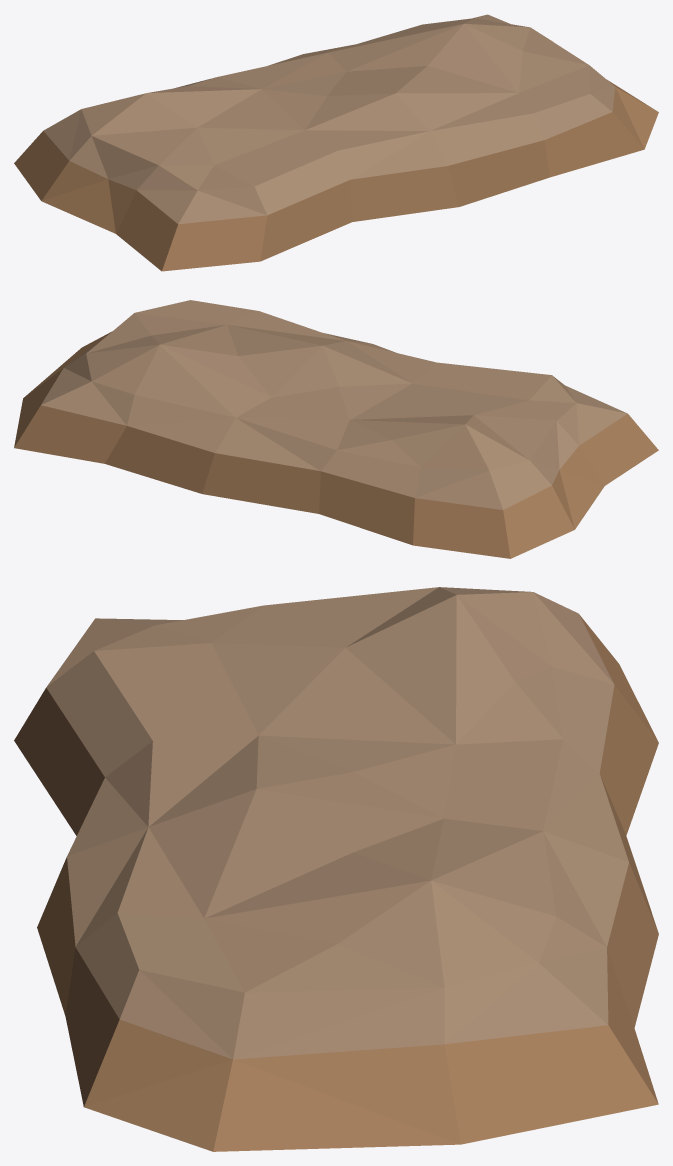
File: TB_Env_Mound_Big_C.FBX
3 views of the same model, one above another, from view 1: azimuth 30°, elevation 25°; view 2: azimuth 150°, elevation 25°; view 3: azimuth 270°, elevation 25° (orthographic). The views are drawn at different scales.
Visible parts, largest first — view 1: TB_Env_Mound_Big_C; view 2: TB_Env_Mound_Big_C; view 3: TB_Env_Mound_Big_C.
Part boxes in pixels (x1=…): TB_Env_Mound_Big_C: x1=14, y1=14, x2=658, y2=271; TB_Env_Mound_Big_C: x1=14, y1=300, x2=658, y2=558; TB_Env_Mound_Big_C: x1=14, y1=587, x2=658, y2=1151.
Size of the model in its own units: 25.17 by 3.49 by 13.6.
